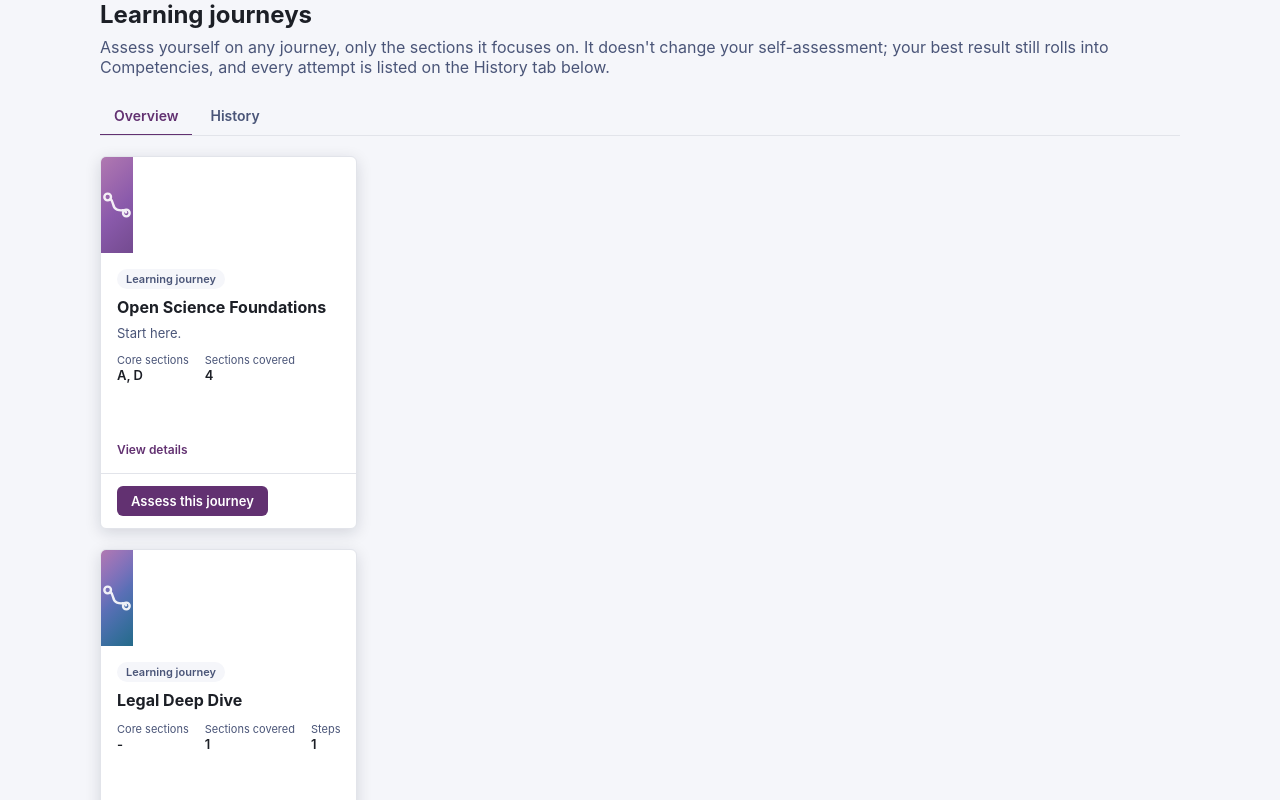
Test: LearningJourneysPage › starts the assessment from the modal and closes it
This screenshot has width=1280, height=800.
Click the button named "view details".
click(229, 315)  # box 101,157 -> 356,473
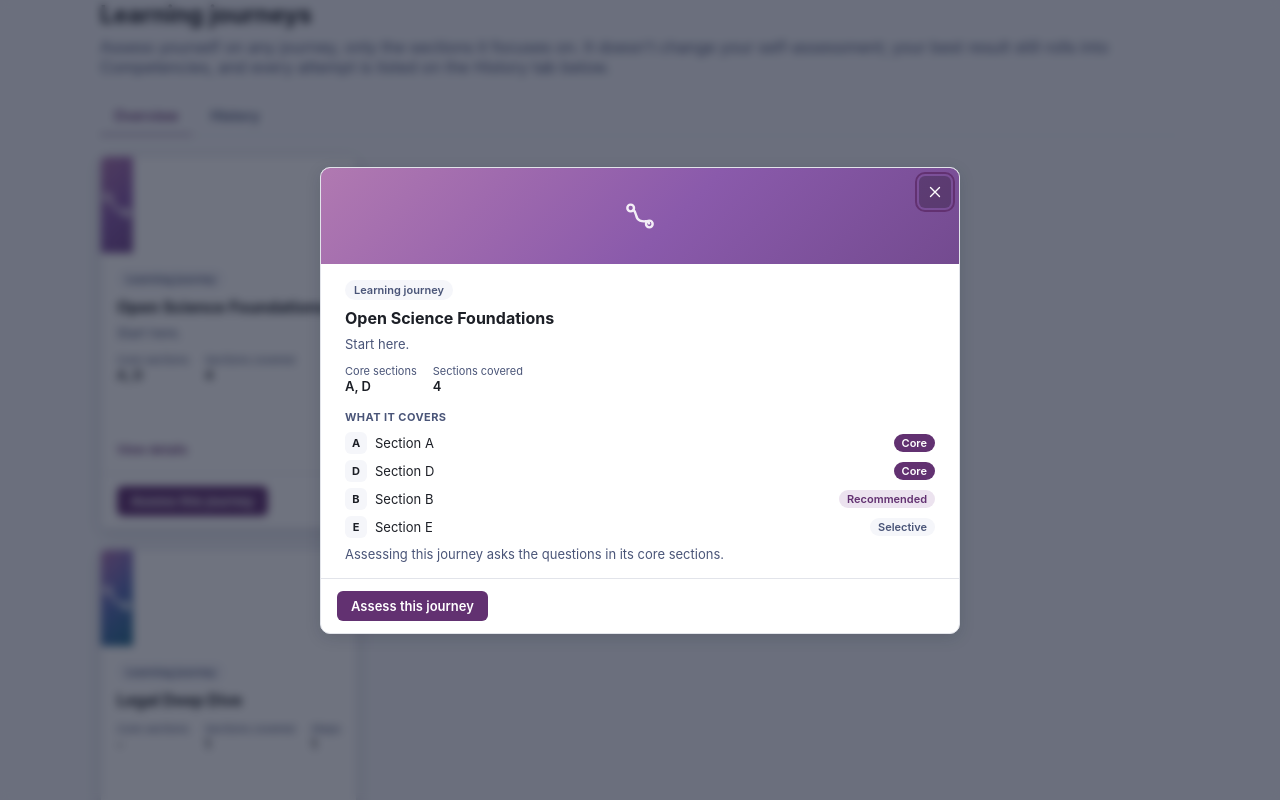
Click the button "Assess this journey".
click(412, 606)  # box 337,590 -> 488,620
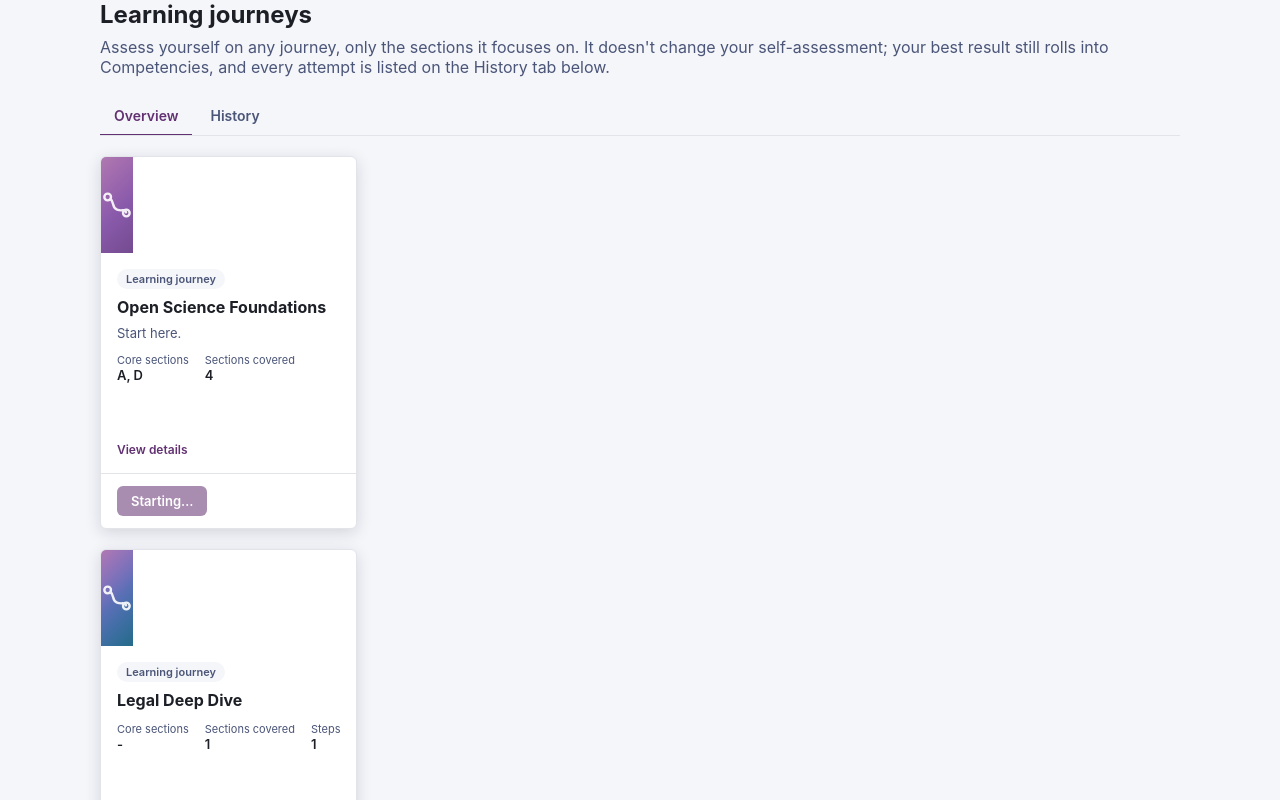
Check: the dialog is gone
